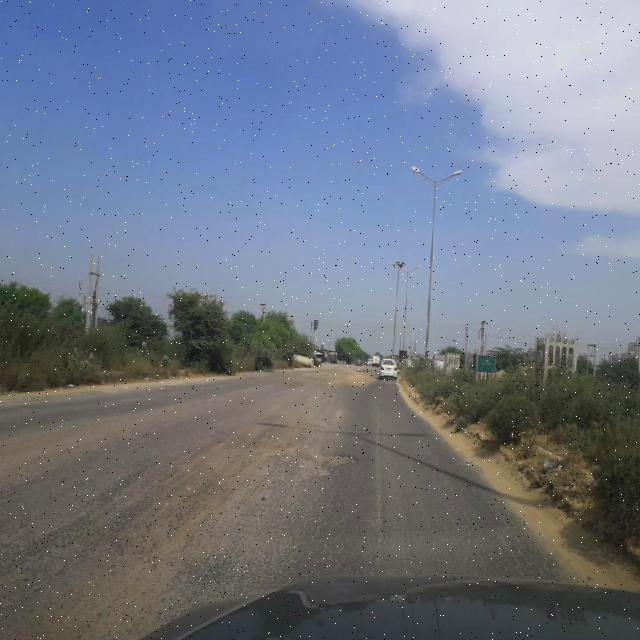D00: (367, 394, 390, 570)
D20: (301, 471, 352, 570)
D40: (172, 427, 367, 497)
